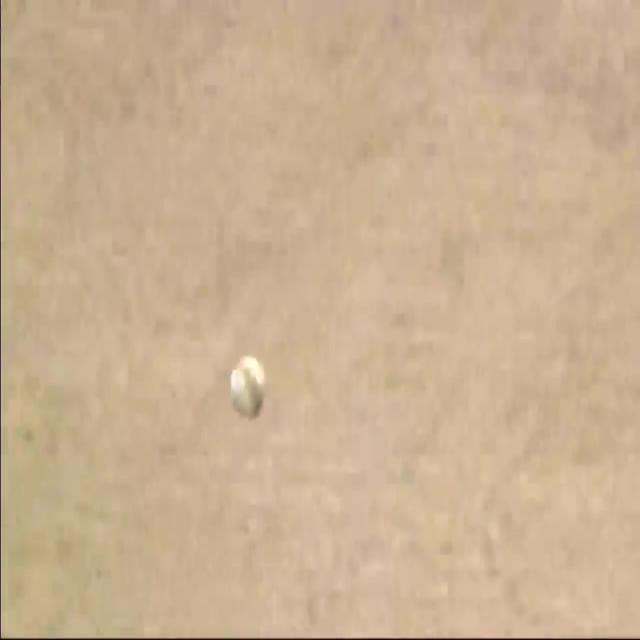Batsman: (222, 341, 274, 431)
